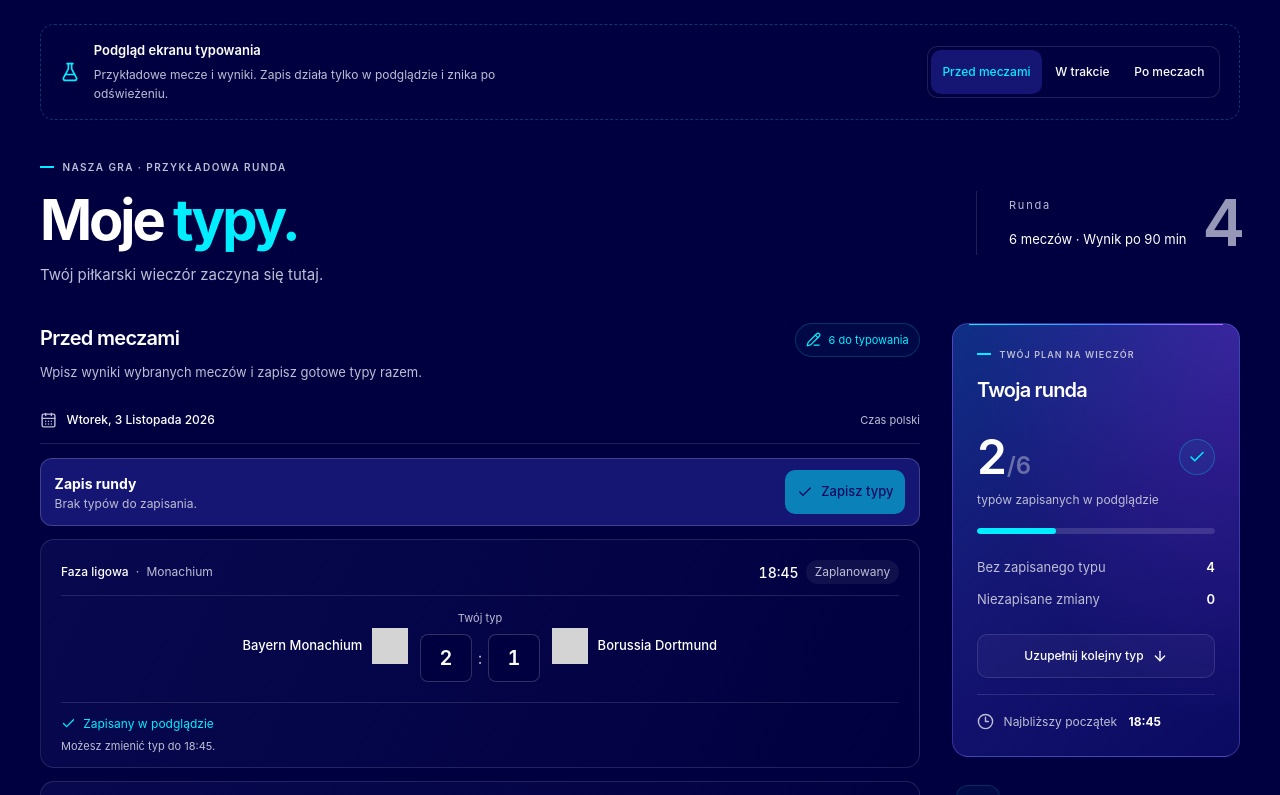
Test: prediction preview › returns a saved prediction to clean state when edits are reverted
Replace the text in the field named "Gole: Bayern Monachium, mecz Bayern Monachium — Borussia Dor" with "3" at {"x": 446, "y": 658}, box [420,634,472,682]
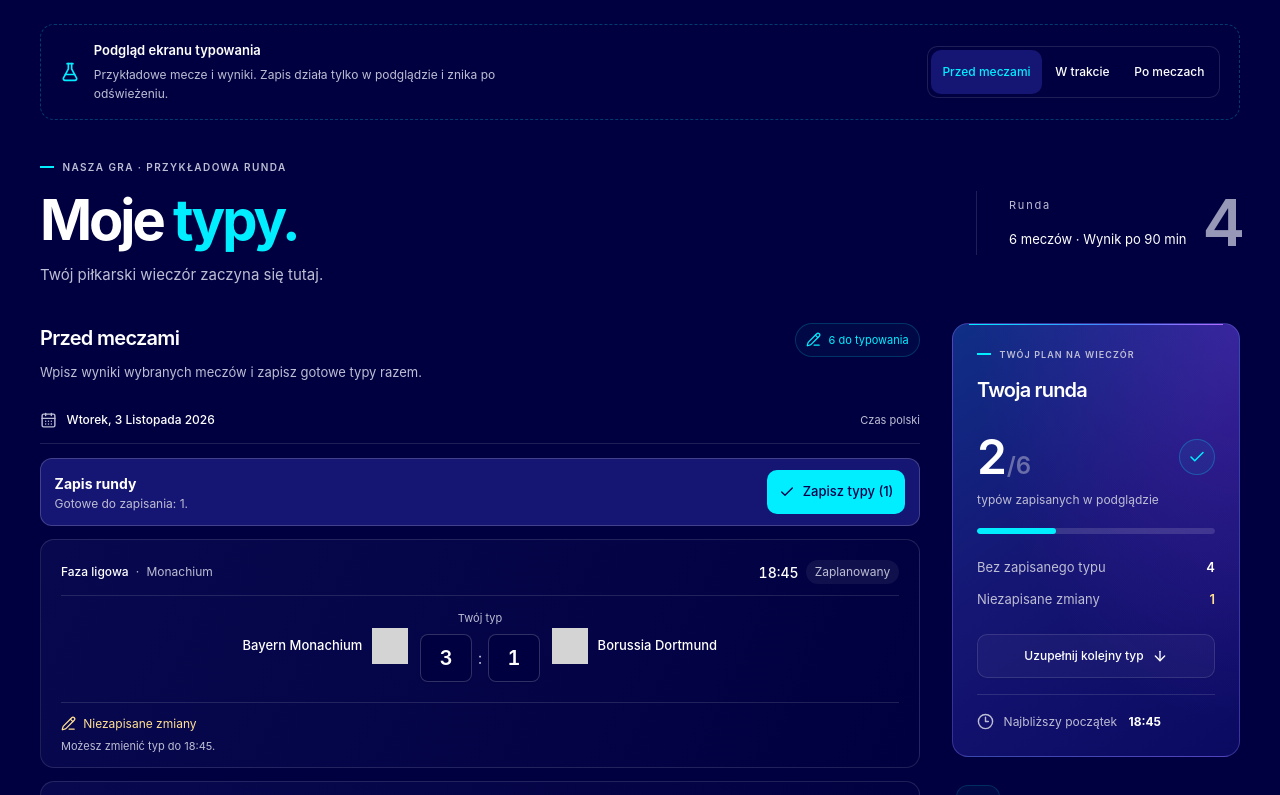
Result: the text "Niezapisane zmiany" is shown at [61,715,215,733]
Replace the text in the field named "Gole: Bayern Monachium, mecz Bayern Monachium — Borussia Dor" with "2" at {"x": 446, "y": 658}, box [420,634,472,682]
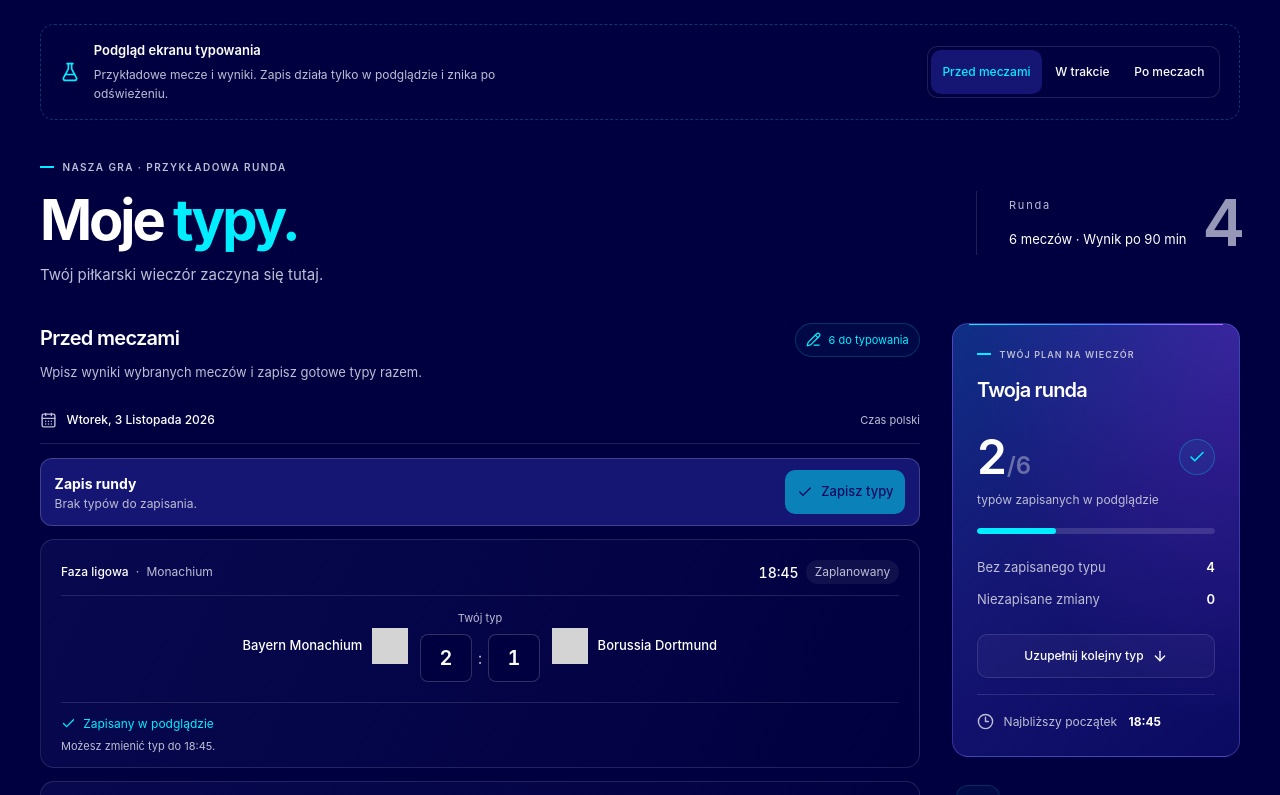
Result: the text "Zapisany w podglądzie" is shown at [61,715,215,733]
Result: the button "Zapisz typy" is disabled at [785,470,905,514]
